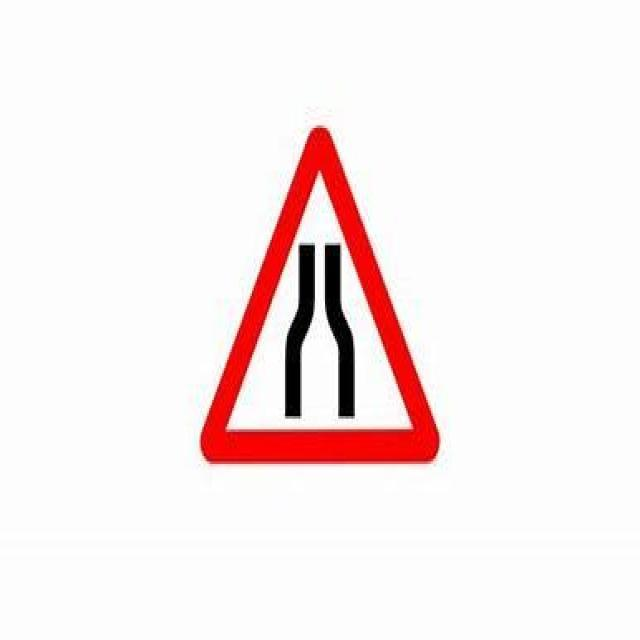narrow road ahead: (198, 124, 443, 472)
